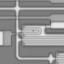dust: (37, 29, 39, 32), (32, 29, 34, 31)
